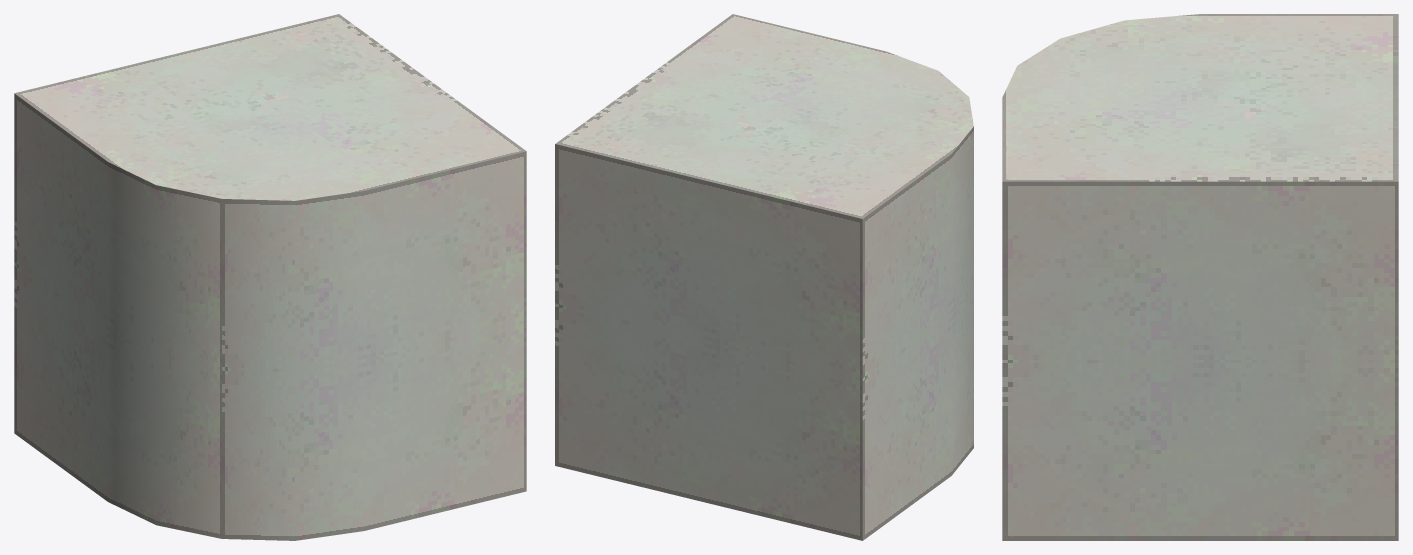
The model's file is Concrete2.glb.
3 renders of one model, left to right at view 1: azimuth 30°, elevation 25°; view 2: azimuth 150°, elevation 25°; view 3: azimuth 270°, elevation 25°, orthographic. The views are drawn at different scales.
Visible parts, largest first — view 1: Cube.030; view 2: Cube.030; view 3: Cube.030.
Part boxes in pixels (<box>): Cube.030: <box>14,14,526,540</box>; Cube.030: <box>555,14,973,540</box>; Cube.030: <box>1002,14,1398,540</box>.
Bounding box in the file's own units: 8 × 8 × 8.
1 material, 1 textured.
